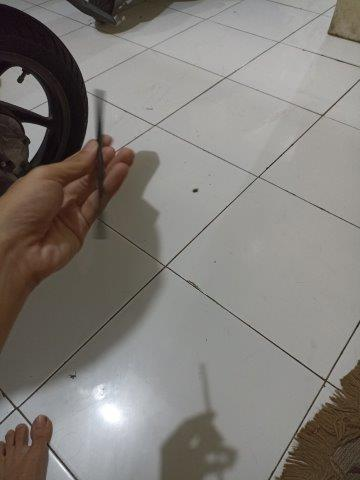sedotan: (95, 90, 108, 239)
